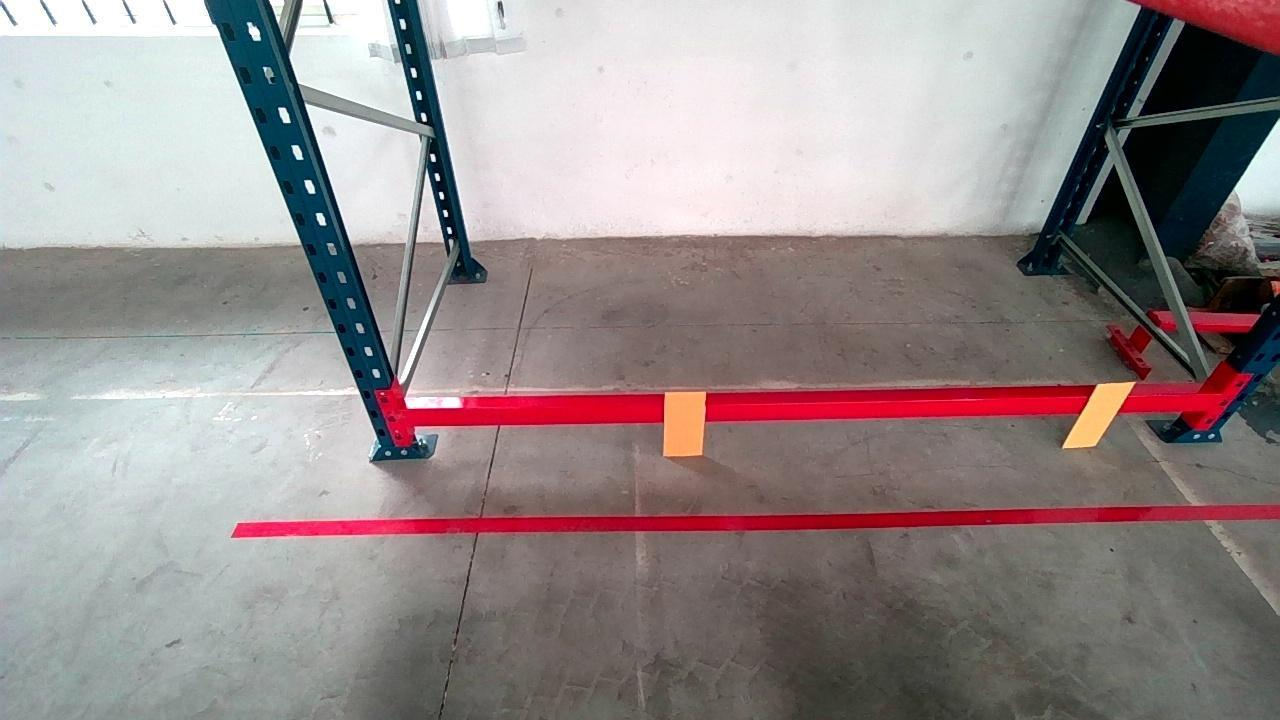orange_strip: (1064, 382, 1136, 446), (664, 389, 705, 455)
red_line: (230, 503, 1280, 536), (405, 392, 1218, 425)
